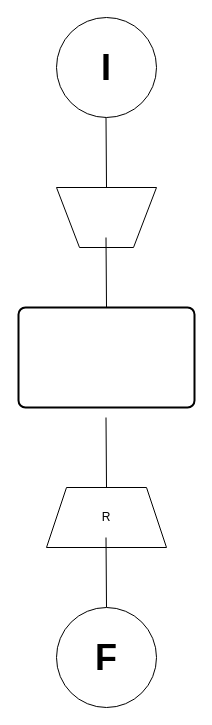
Image size: 212x725. Some labels were removed from this diagram. Here are the shapes that lost their labels. From the top down, the centre of each, then its label:
(x=106, y=217): N1
(x=106, y=357): R = N1*N1*N1
